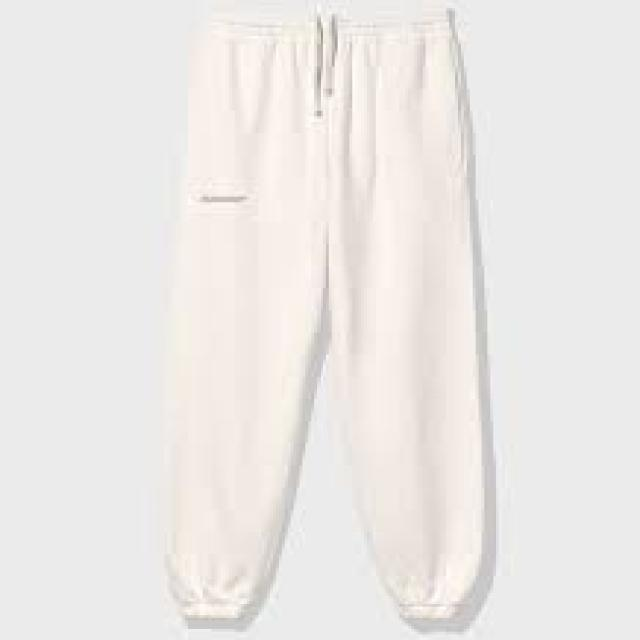pants: (156, 7, 495, 626)
